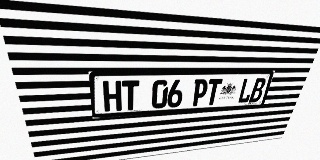0: (151, 80, 169, 109)
6: (167, 79, 184, 108)
B: (248, 78, 267, 103)
H: (103, 81, 122, 112)
L: (237, 78, 255, 103)
P: (191, 79, 209, 106)
T: (122, 80, 139, 111), (205, 79, 223, 105)
